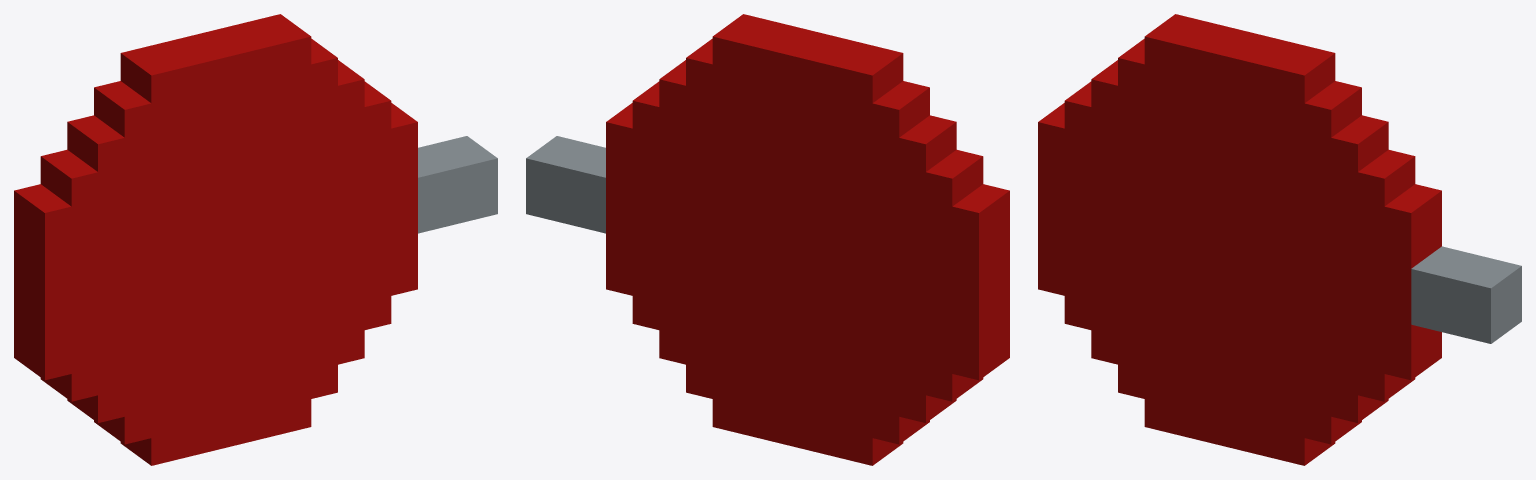
The model's file is school_bus_stop_arm.glb.
3 renders of one model, left to right at view 1: azimuth 30°, elevation 25°; view 2: azimuth 150°, elevation 25°; view 3: azimuth 330°, elevation 25°, orthographic.
Parts seen in each view (by area): view 1: body:compound; view 2: body:compound; view 3: body:compound.
Part boxes in pixels (left/top/right/bottom): body:compound: left=14, top=14, right=497, bottom=465; body:compound: left=526, top=14, right=1009, bottom=465; body:compound: left=1038, top=14, right=1521, bottom=465.
Size of the model in its own units: 0.5312 by 0.4375 by 0.0625.
